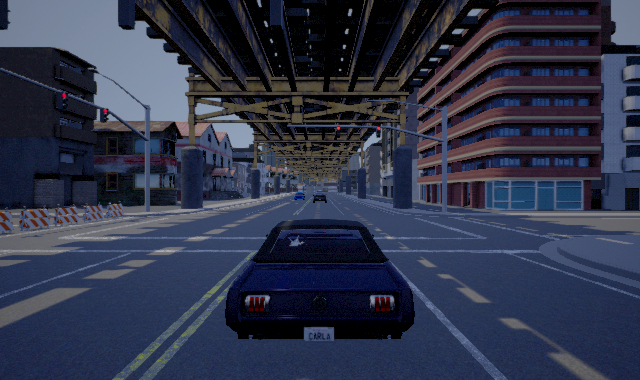traffic_light: (58, 92, 68, 111), (100, 108, 109, 123), (376, 126, 381, 138), (337, 126, 340, 138)
vehicle: (225, 219, 415, 341), (312, 192, 328, 204), (294, 191, 305, 201)
